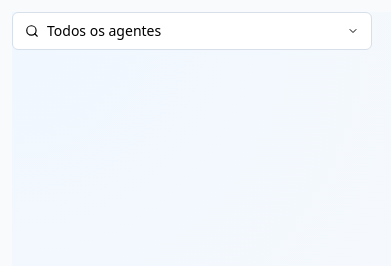
Scenario: AgentFilterBar › filters list by case-insensitive substring
This screenshot has width=391, height=266.
Click the button "Todos os agentes".
click(104, 30)  # box [12,12,372,50]
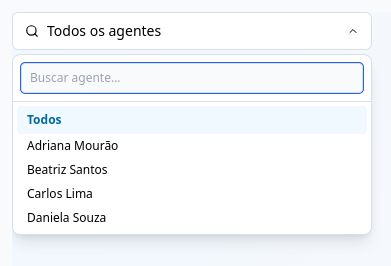
Type "be" into the field with placeholder "Buscar agente...".
click(192, 78); type("be")  # box [21,63,363,93]
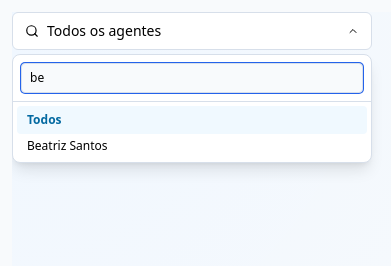
Check: the button "Beatriz Santos" is shown, box [17,134,367,158]
Check: the button "Carlos Lima" is gone
Check: the button "Adriana Mourão" is gone
